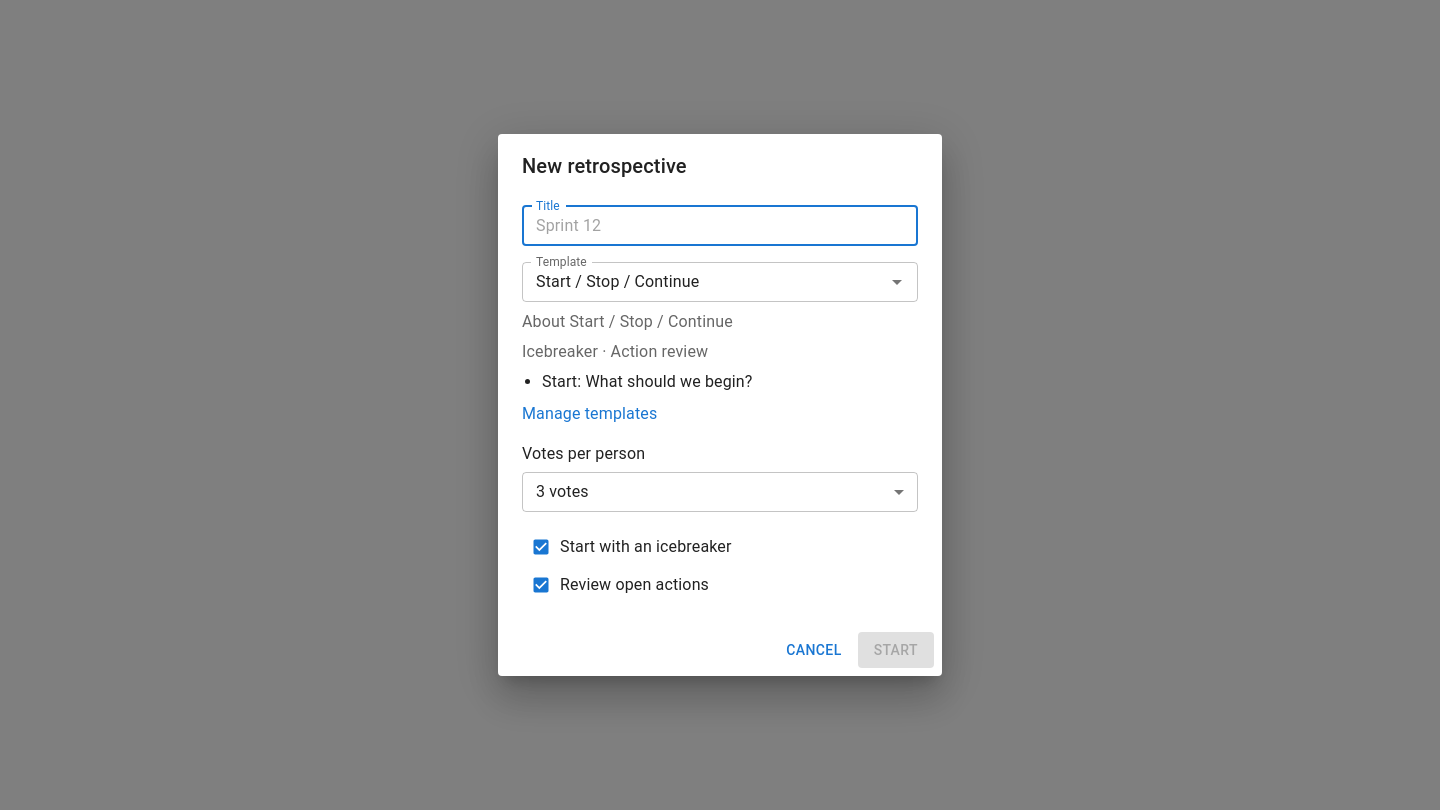
Test: NewRetroDialog › previews the description and the column prompts, or the blank board
The width and height of the screenshot is (1440, 810).
Expected: the text "About Start / Stop / Continue" is shown, top-left (522, 312), bottom-right (733, 331)
Expected: the list item "Start: What should we begin?" is shown, top-left (542, 372), bottom-right (753, 391)
Replace the text in the dropdown labelled "Template" with "Blank" at (704, 282), box top-left (528, 268), bottom-right (879, 296)
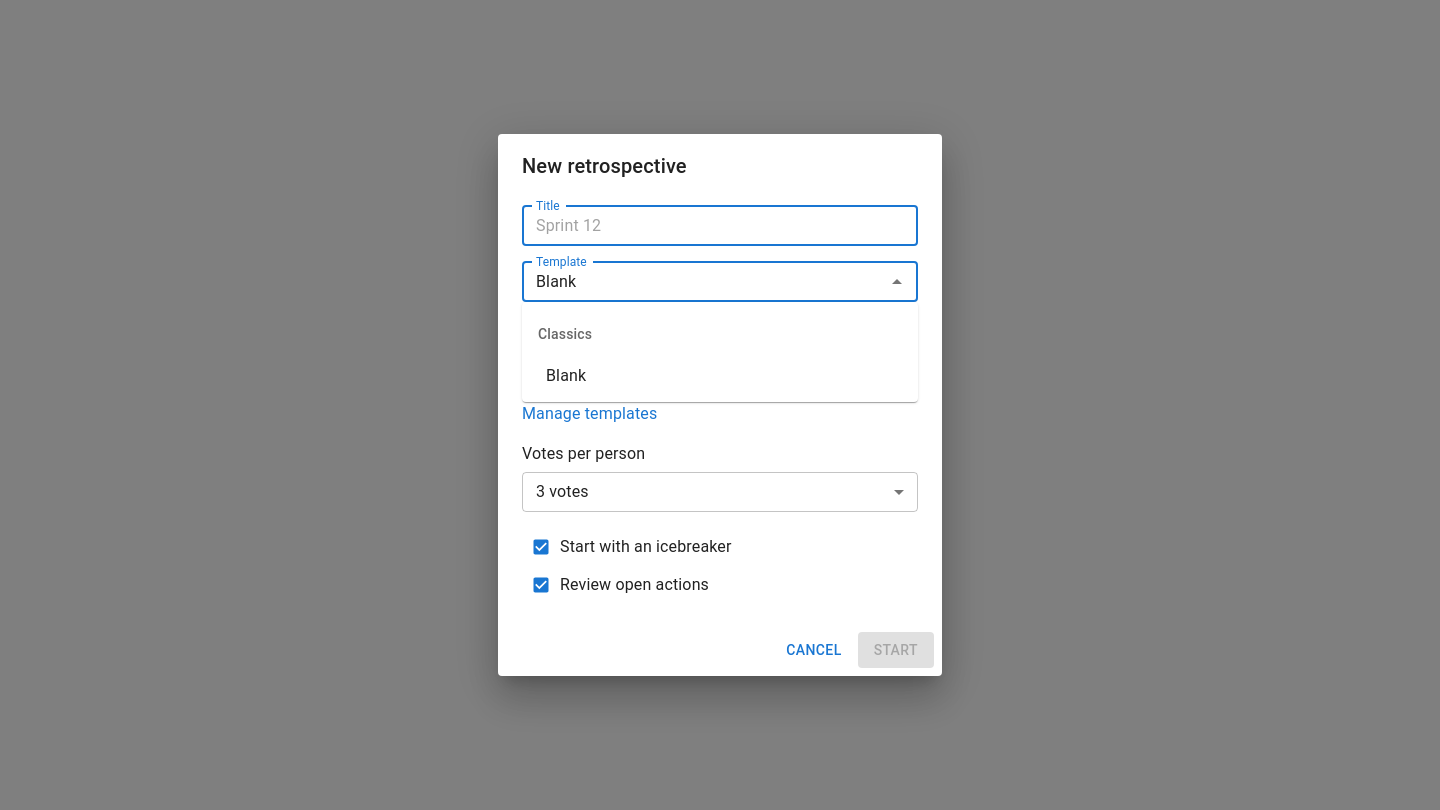
Click the option "Blank" at (566, 376), box top-left (546, 366), bottom-right (586, 385)
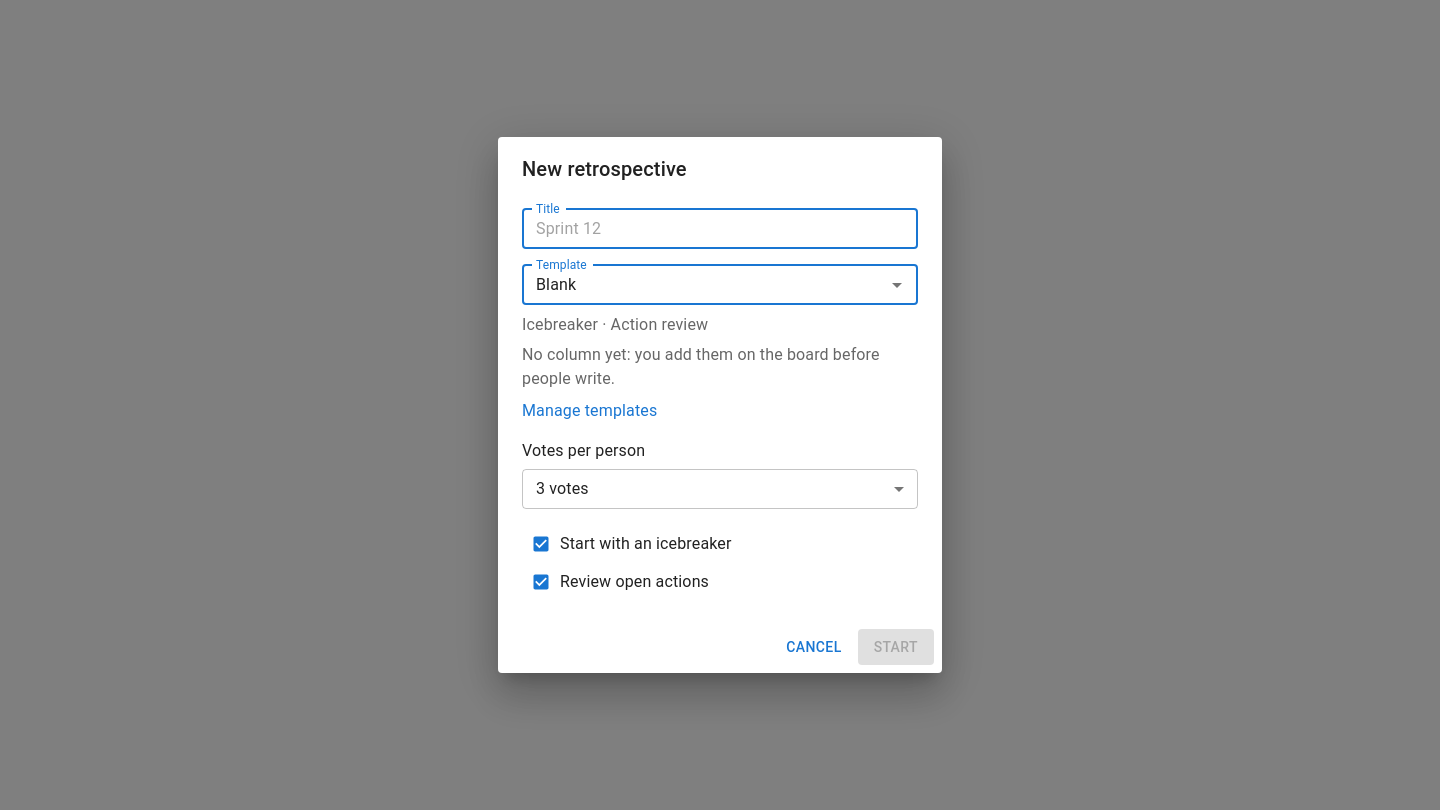
Expected: the text "No column yet: you add them on the board before people write." is shown, top-left (522, 343), bottom-right (918, 391)
